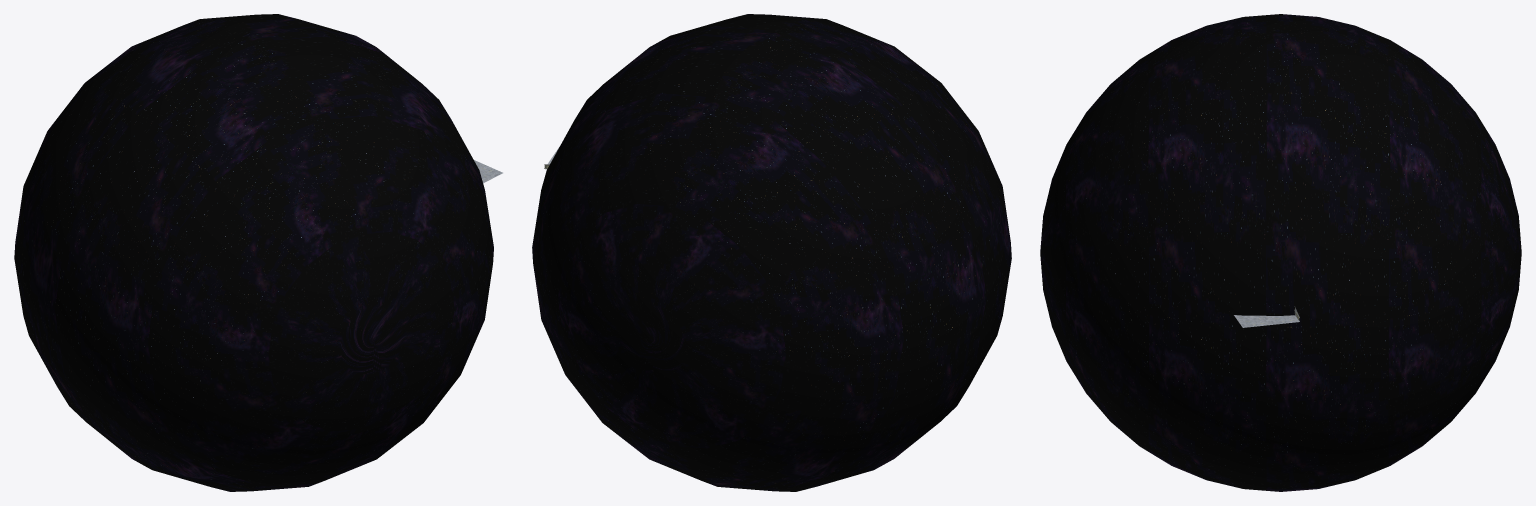
File: thm_newbie_hall_r2_mesh_r2.fbx
3 views of the same model, side by side, from view 1: azimuth 30°, elevation 25°; view 2: azimuth 150°, elevation 25°; view 3: azimuth 270°, elevation 25° (orthographic).
Visible parts, largest first — view 1: mesh_node; view 2: mesh_node; view 3: mesh_node.
Boxes of the visible parts, x1,y1,x2,y2 form: mesh_node: (14, 14, 502, 491); mesh_node: (532, 14, 1011, 491); mesh_node: (1040, 14, 1521, 491).
Size of the model in its own units: 2055 by 1950 by 1950.
